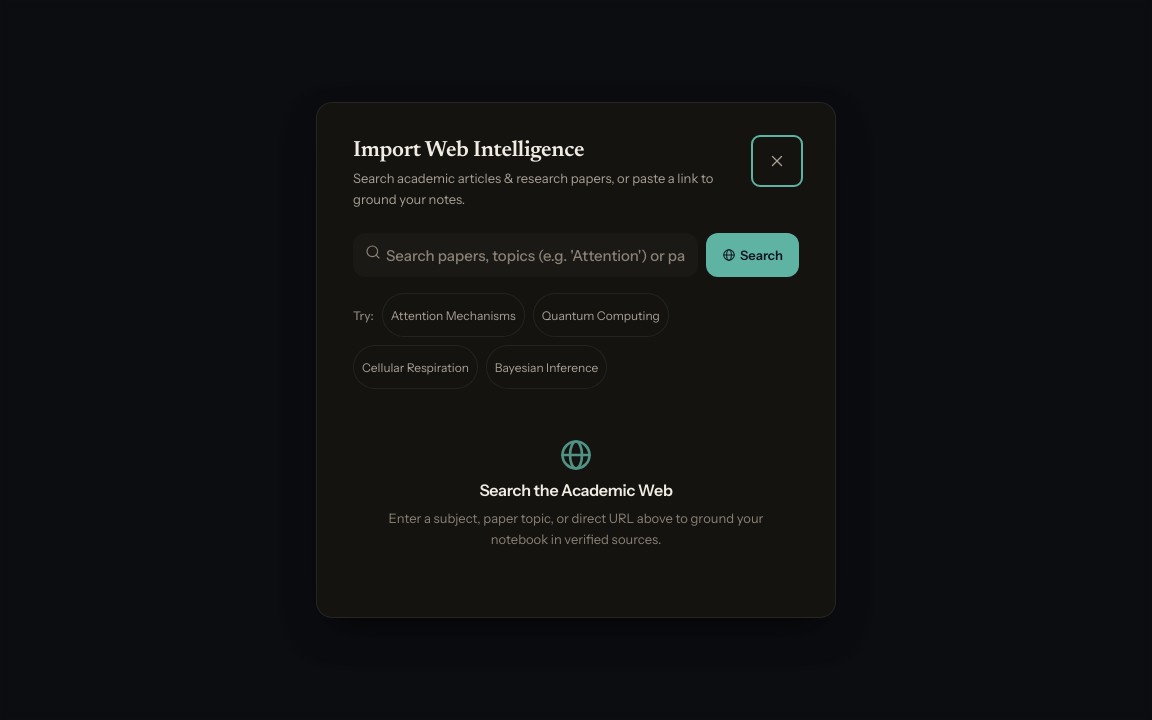
Test: WebSourceImportModal › searches and renders result cards with domain badges and snippets
The width and height of the screenshot is (1152, 720).
Type "Attention" into the field named "Search articles and papers or paste URL".
click(526, 256); type("Attention")  # box [353,234,698,278]
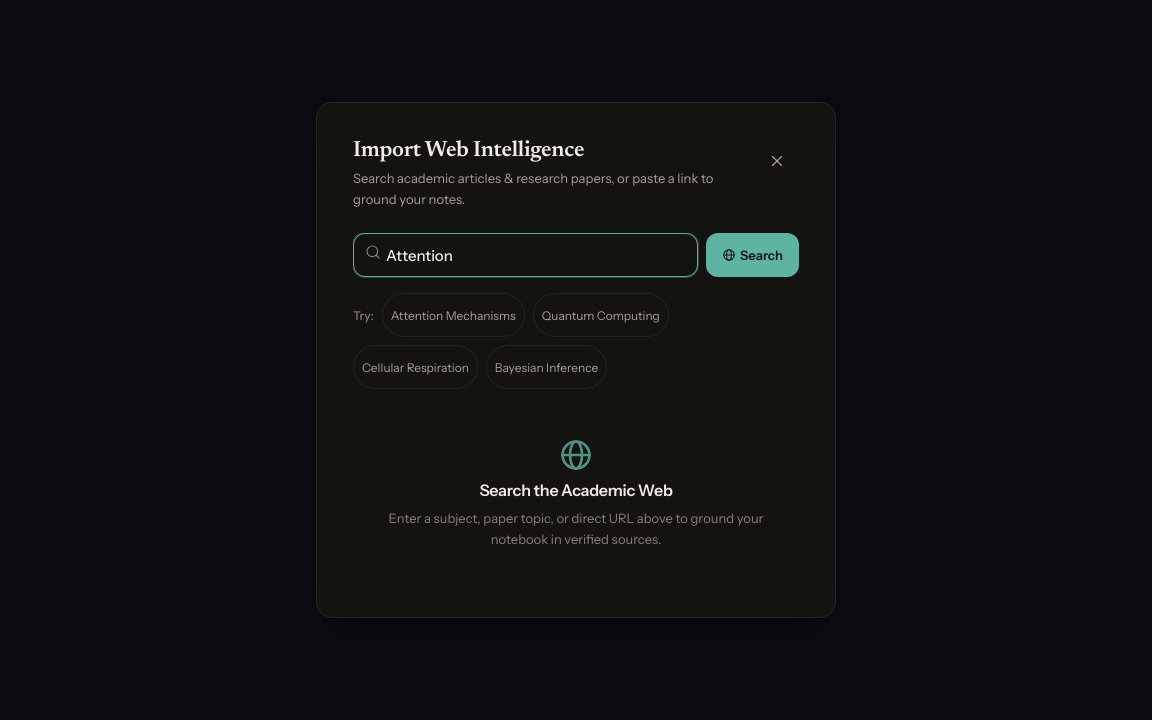
Click the button "Search".
click(753, 256)  # box [706,234,799,278]
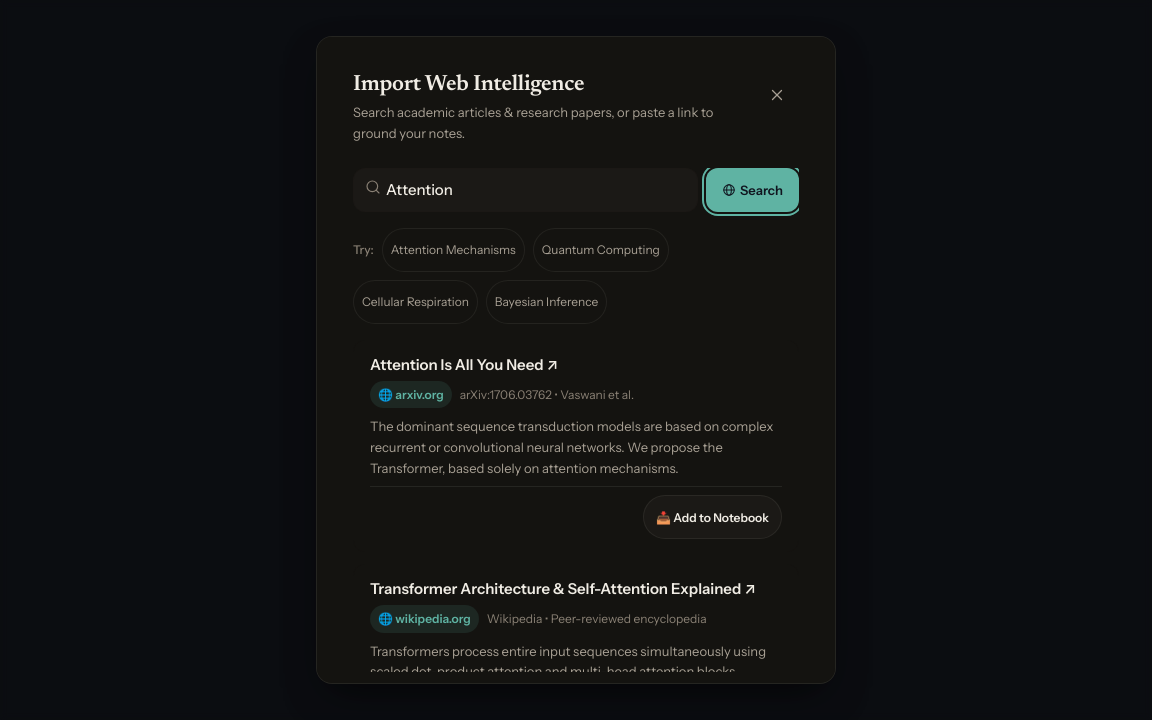
Result: the link "Attention Is All You Need ↗" is shown at [370,355,558,374]
Result: the text "🌐 arxiv.org" is shown at [370,381,452,408]
Result: the text "The dominant sequence transduction models are based on complex recurrent" is shown at [370,418,773,476]
